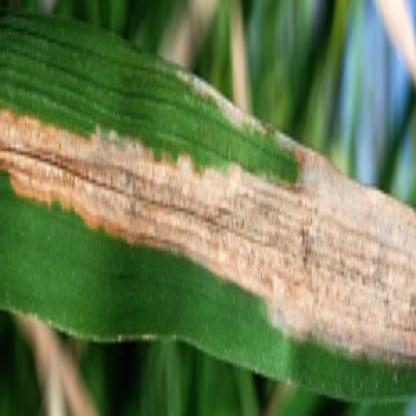Blight: (2, 62, 416, 378)
